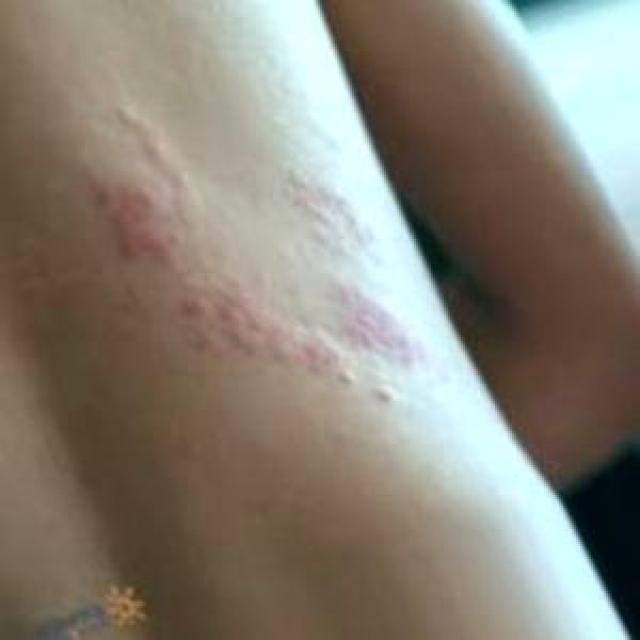Shingles: (80, 164, 353, 386), (283, 152, 418, 398)
